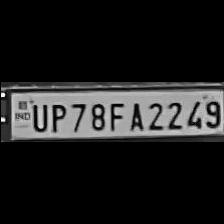2: (144, 99, 164, 131), (162, 98, 182, 130)
4: (183, 97, 203, 128)
7: (66, 100, 86, 132)
8: (86, 100, 106, 132)
9: (202, 96, 222, 130)
A: (125, 99, 144, 131)
F: (106, 100, 124, 132)
P: (47, 100, 67, 132)
U: (26, 100, 48, 132)
